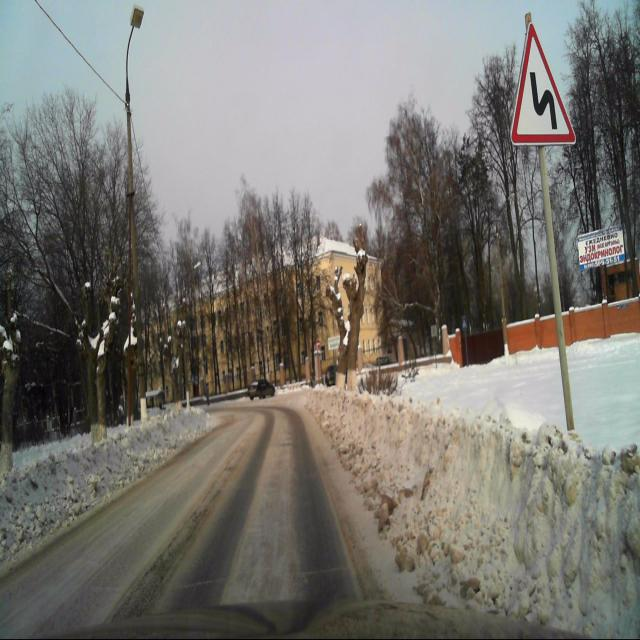road sign: (538, 147, 576, 430), (511, 24, 578, 144)
